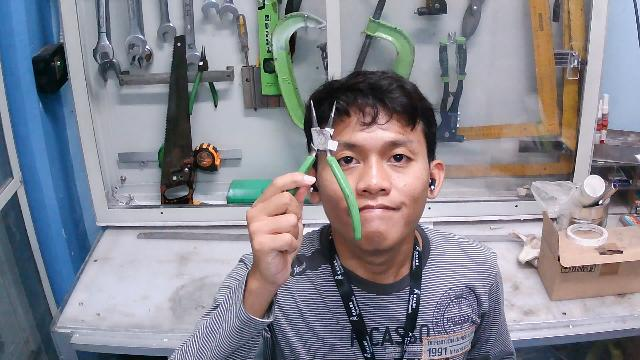tang_cucut_lancip_1: (279, 98, 374, 248)
